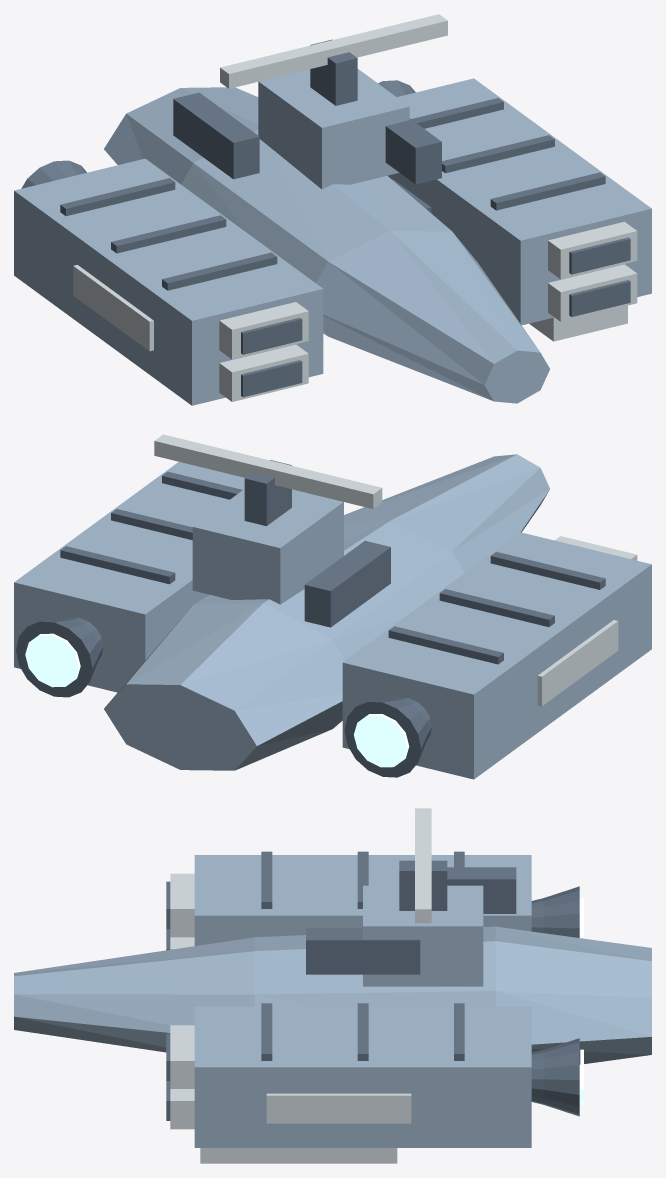
The picture shows the model from 3 angles, top to bottom: view 1: azimuth 30°, elevation 25°; view 2: azimuth 150°, elevation 25°; view 3: azimuth 270°, elevation 25°; orthographic projection. The views are drawn at different scales.
Size of the model in its own units: 10.77 by 5.19 by 13.41.
